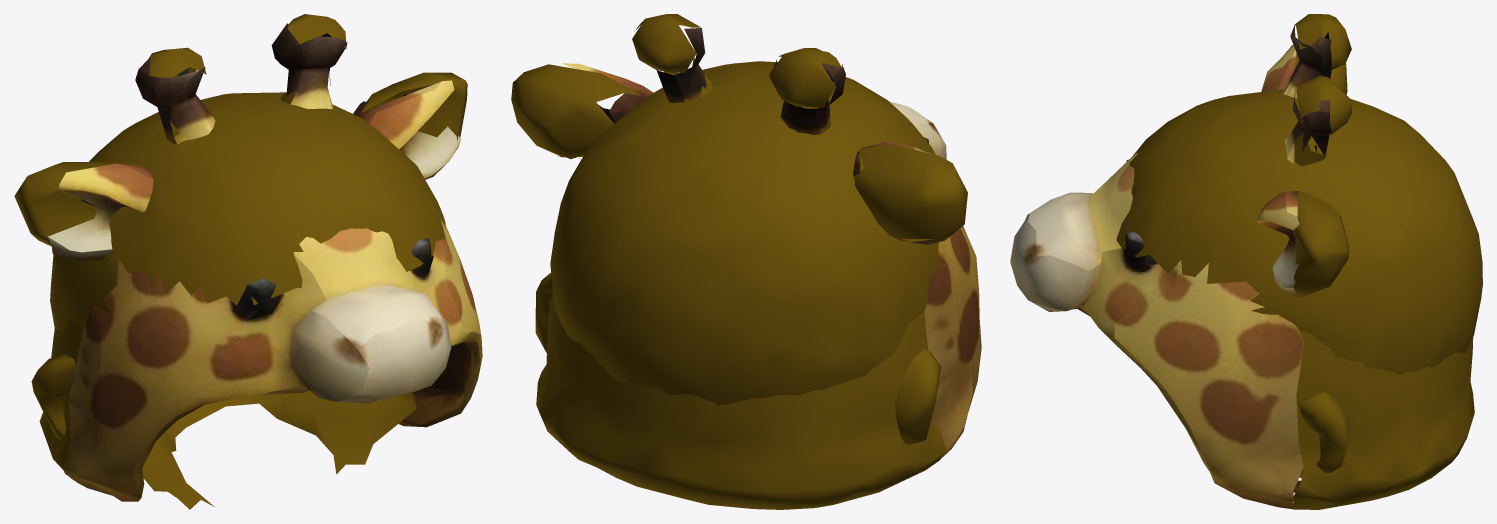
Rendered from giraffe.glb.
3 renders of one model, left to right at view 1: azimuth 30°, elevation 25°; view 2: azimuth 150°, elevation 25°; view 3: azimuth 270°, elevation 25°, orthographic. The views are drawn at different scales.
Parts seen in each view (by area): view 1: geometry_0, HoodAnatomicalLining; view 2: HoodAnatomicalLining, geometry_0; view 3: geometry_0, HoodAnatomicalLining.
Part boxes in pixels (<box>): geometry_0: <box>14,14,482,501</box>; HoodAnatomicalLining: <box>31,92,445,509</box>; HoodAnatomicalLining: <box>535,61,941,444</box>; geometry_0: <box>511,14,981,509</box>; geometry_0: <box>1010,14,1474,509</box>; HoodAnatomicalLining: <box>1116,89,1482,477</box>.
Size of the model in its own units: 0.5253 by 0.4852 by 0.5084.
2 materials, 1 textured.
